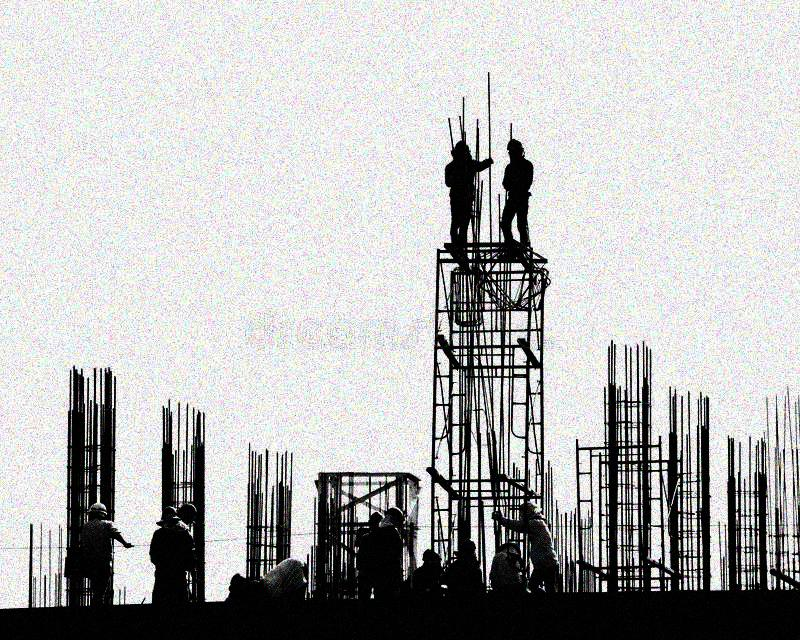helmet: (520, 501, 544, 521), (384, 507, 404, 528), (179, 503, 198, 525), (89, 502, 108, 521), (161, 505, 178, 524), (460, 539, 479, 555), (421, 548, 437, 564)
